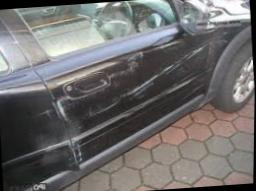Door: (29, 19, 239, 183)
